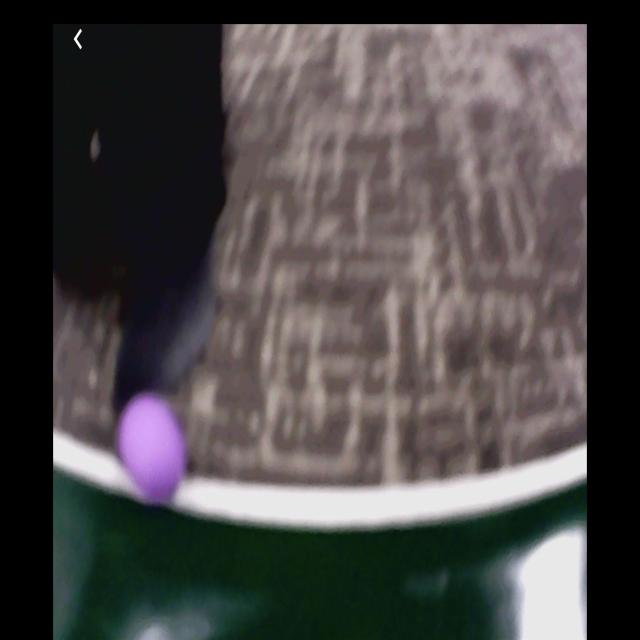ball: (116, 392, 189, 506)
